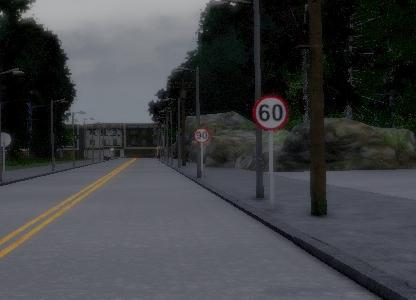Speed_60: (253, 93, 288, 131)
